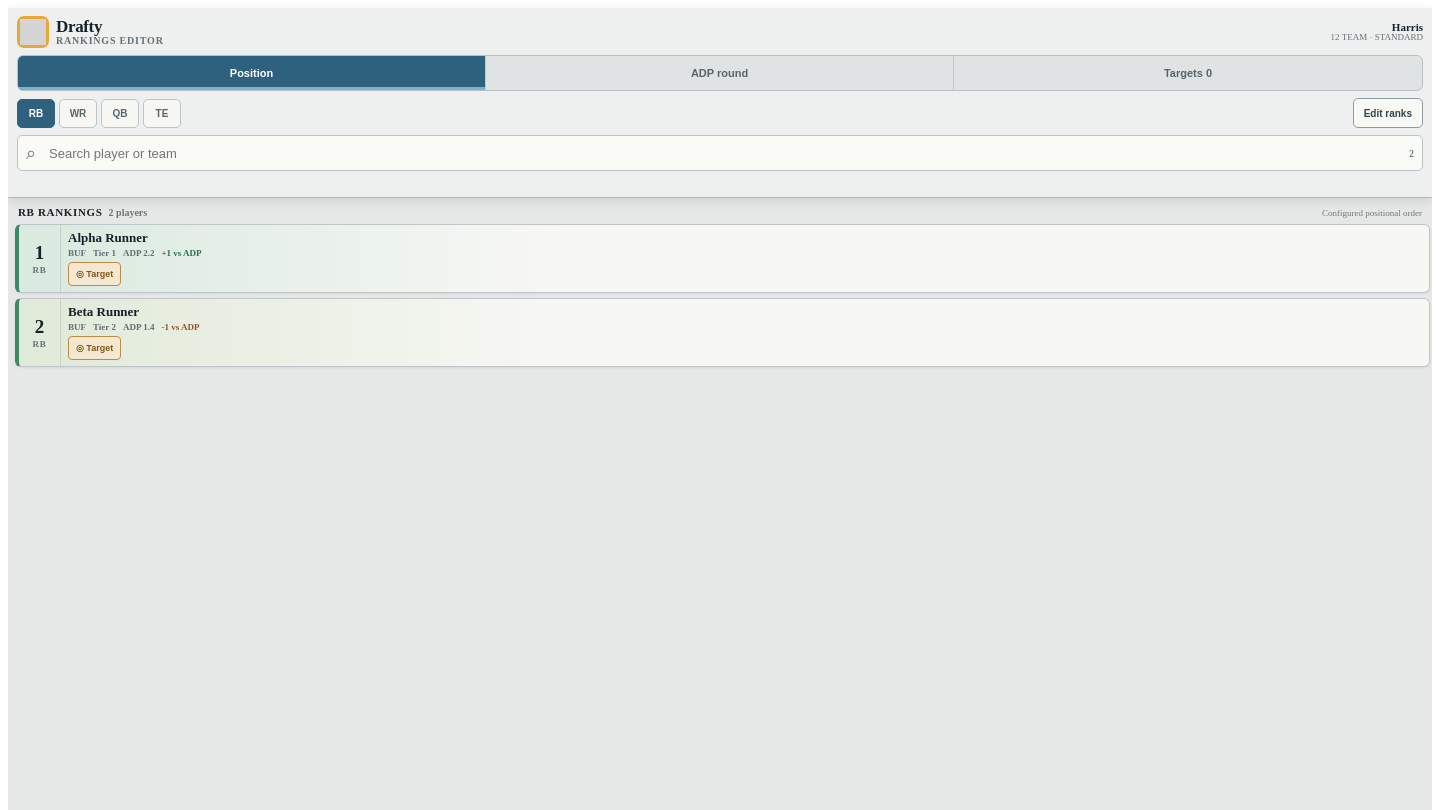
it: mobile rankings editor › groups ranked players by configured ADP round
What coordinates should you click on to do the following:
click the button "ADP round"
I would click on:
 (720, 73)
Its box is [486,56,954,90].
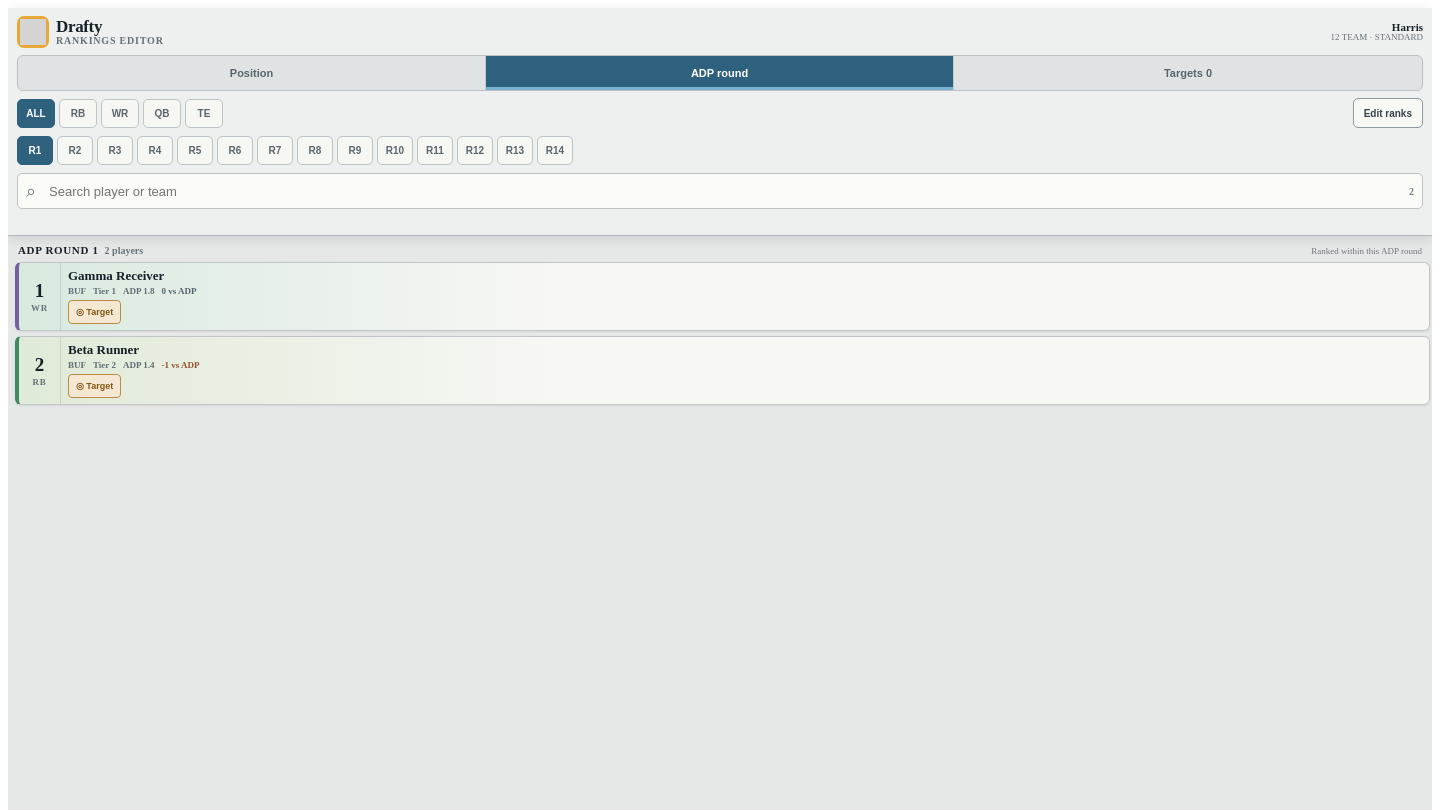
Expected: the element named "Beta Runner, RB rank 2" is shown, [15,336,1430,405]
Now the element named "Gamma Receiver, WR rank 1" is shown, box [15,262,1430,331]
What coordinates should you click on to do the following:
click the button "R2"
I would click on:
 (75, 150)
Its box is [57,136,93,165].
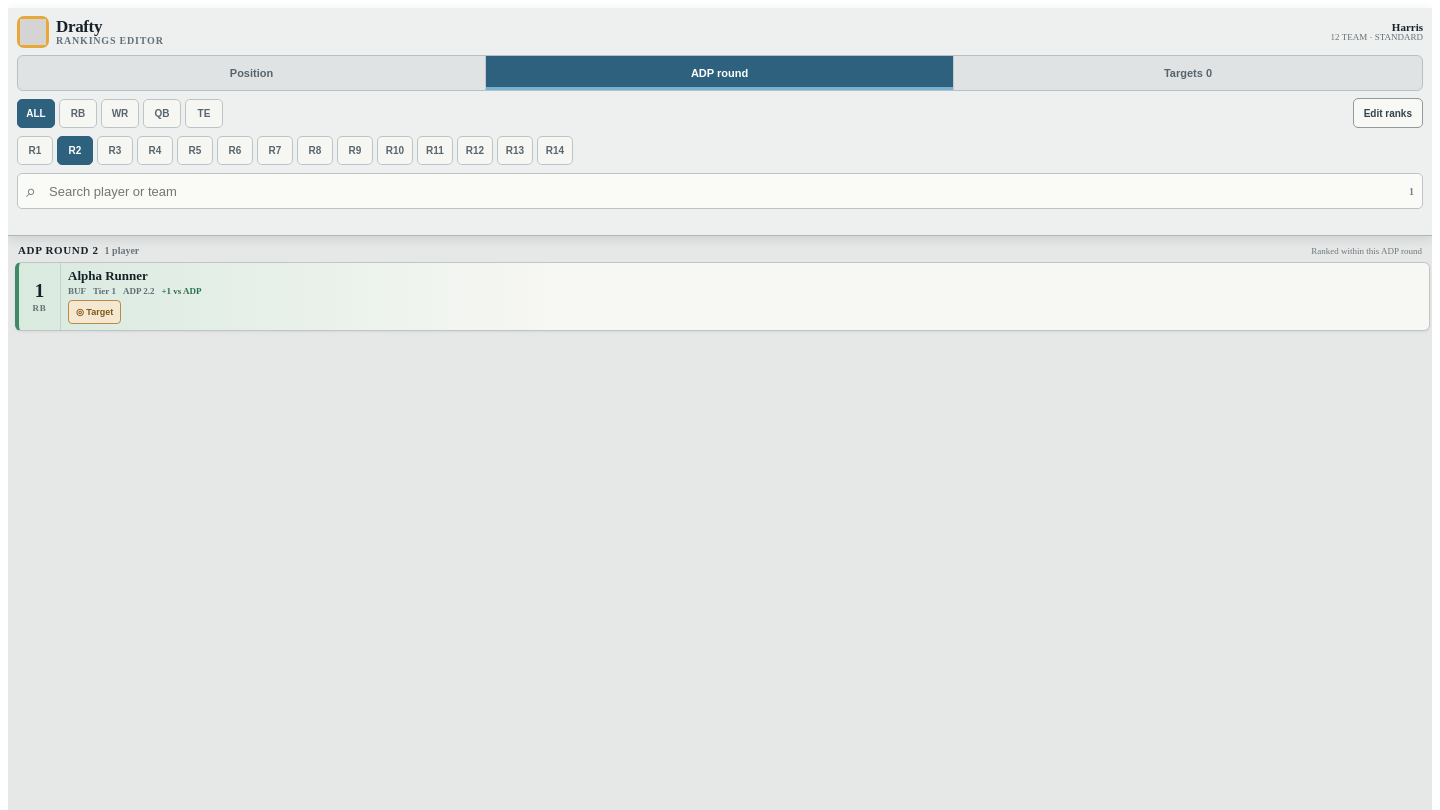
Now the element named "Alpha Runner, RB rank 1" is shown, box [15,262,1430,331]
